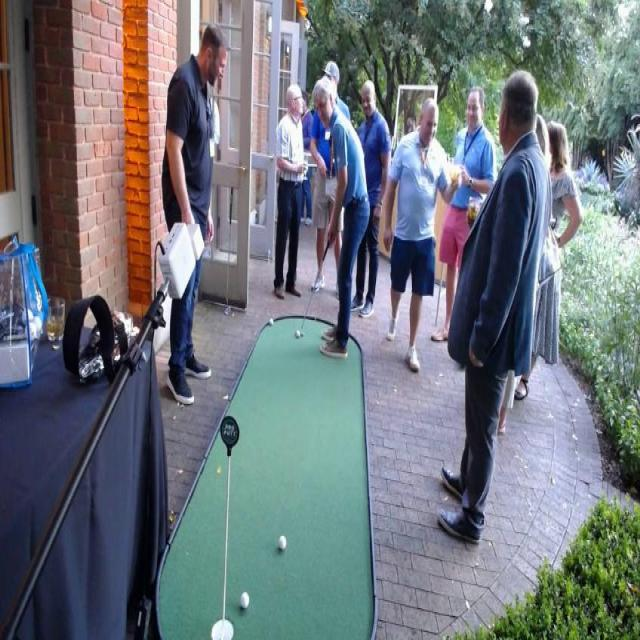GolfBall: (234, 581, 252, 611), (273, 528, 290, 556), (266, 313, 278, 331), (291, 327, 301, 337)
